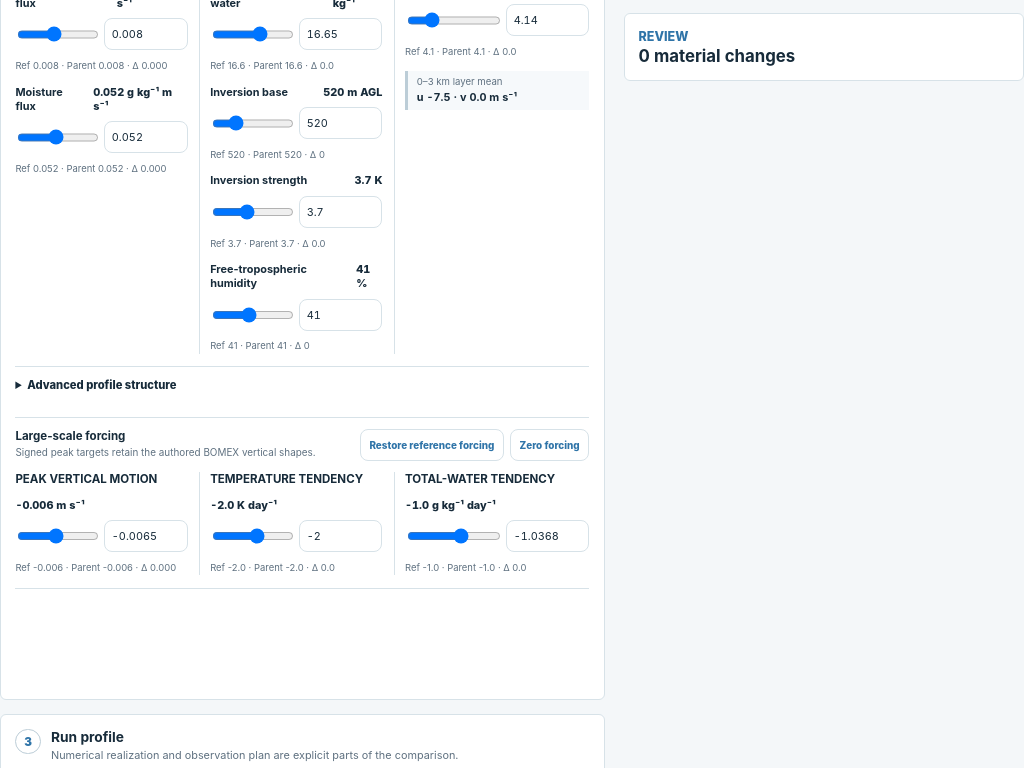
it: TradeCumulusVariationEditor › applies forcing shortcuts visibly and exposes advanced direct controls
(page scrolled)
Expected: the heading "0 material changes" is shown, x1=639 y1=46 x2=795 y2=66
Click the heading "Advanced profile structure".
click(102, 385)  # box x1=27 y1=378 x2=176 y2=392
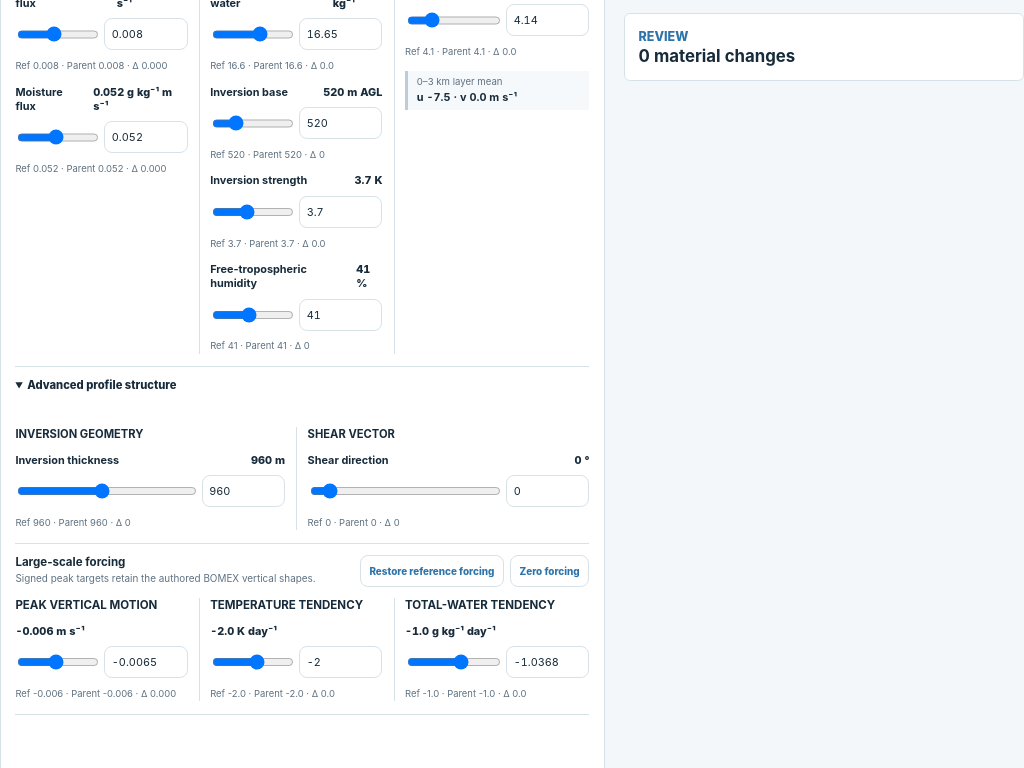
Expected: the text "u -7.5 · v 0.0 m s⁻¹" is shown, x1=417 y1=90 x2=517 y2=104
Expected: the number field named "Inversion thickness exact value" holds "960", x1=202 y1=475 x2=285 y2=507
Expected: the number field named "Shear direction exact value" holds "0", x1=506 y1=475 x2=589 y2=507
Click the button "Zero forcing".
click(550, 571)  # box x1=510 y1=555 x2=589 y2=587
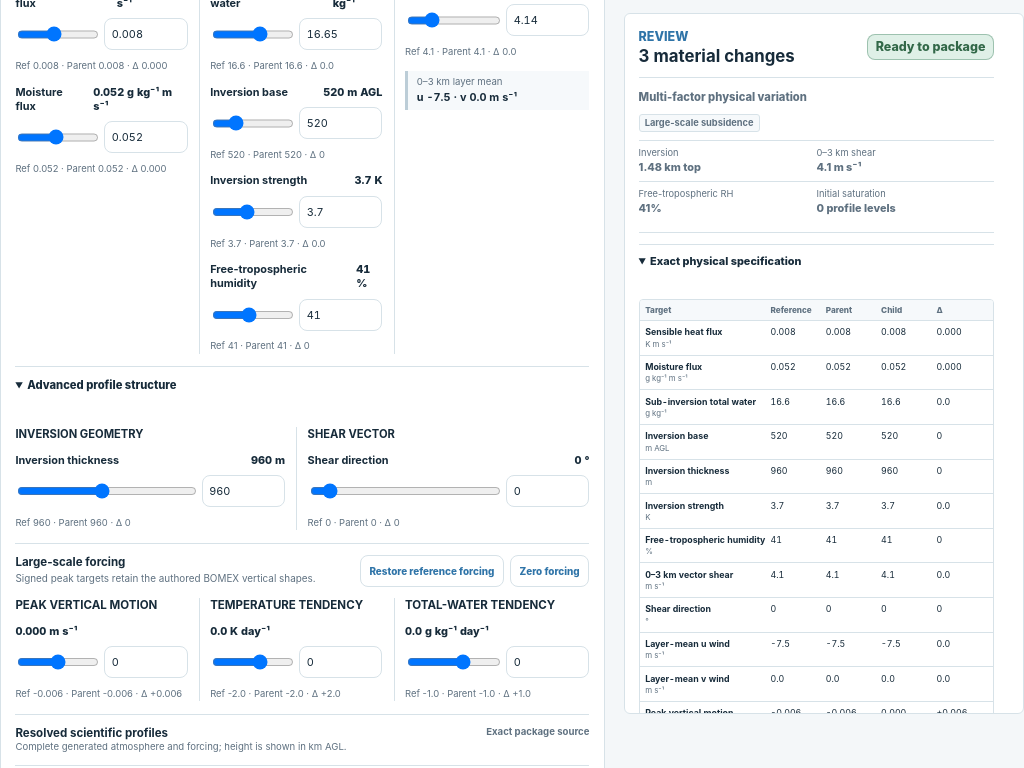
Expected: the number field named "Peak vertical motion exact value" holds "0", x1=104 y1=646 x2=188 y2=678
Expected: the number field named "Temperature tendency exact value" holds "0", x1=299 y1=646 x2=382 y2=678
Expected: the number field named "Total-water tendency exact value" holds "0", x1=506 y1=646 x2=589 y2=678
Click the button "Restore reference forcing".
click(432, 571)  # box x1=360 y1=555 x2=504 y2=587
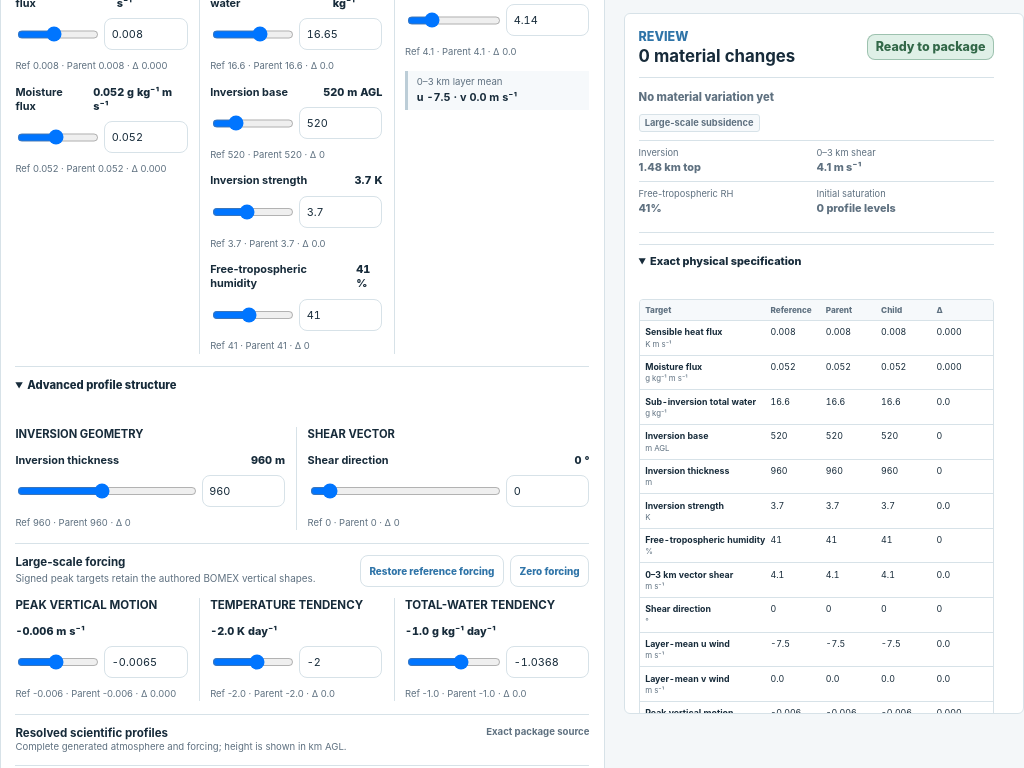
Expected: the number field named "Peak vertical motion exact value" holds "-0.0065", x1=104 y1=646 x2=188 y2=678
Expected: the heading "0 material changes" is shown, x1=639 y1=46 x2=795 y2=66
